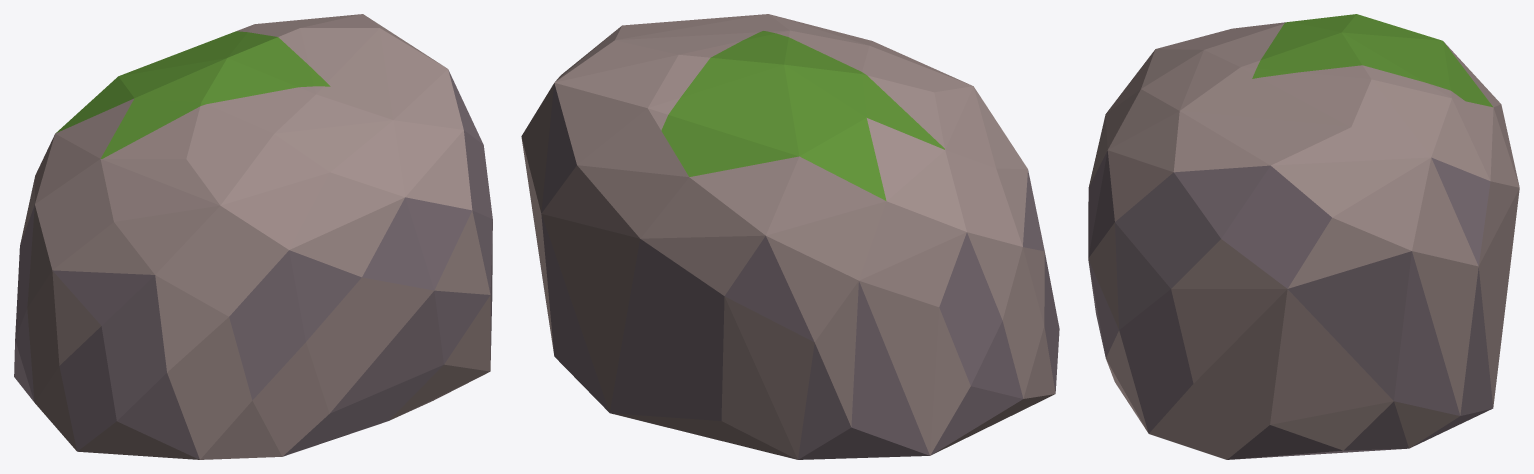
Rendered from rock_a.glb.
3 renders of one model, left to right at view 1: azimuth 30°, elevation 25°; view 2: azimuth 150°, elevation 25°; view 3: azimuth 270°, elevation 25°, orthographic. The views are drawn at different scales.
Parts seen in each view (by area): view 1: Body; view 2: Body; view 3: Body.
Boxes of the visible parts, left/top/right/bottom form: Body: left=14, top=14, right=492, bottom=459; Body: left=521, top=14, right=1059, bottom=459; Body: left=1088, top=14, right=1519, bottom=459.
Size of the model in its own units: 1.9 by 1.25 by 1.5.
